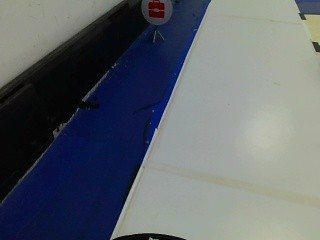company: (139, 0, 173, 23)
